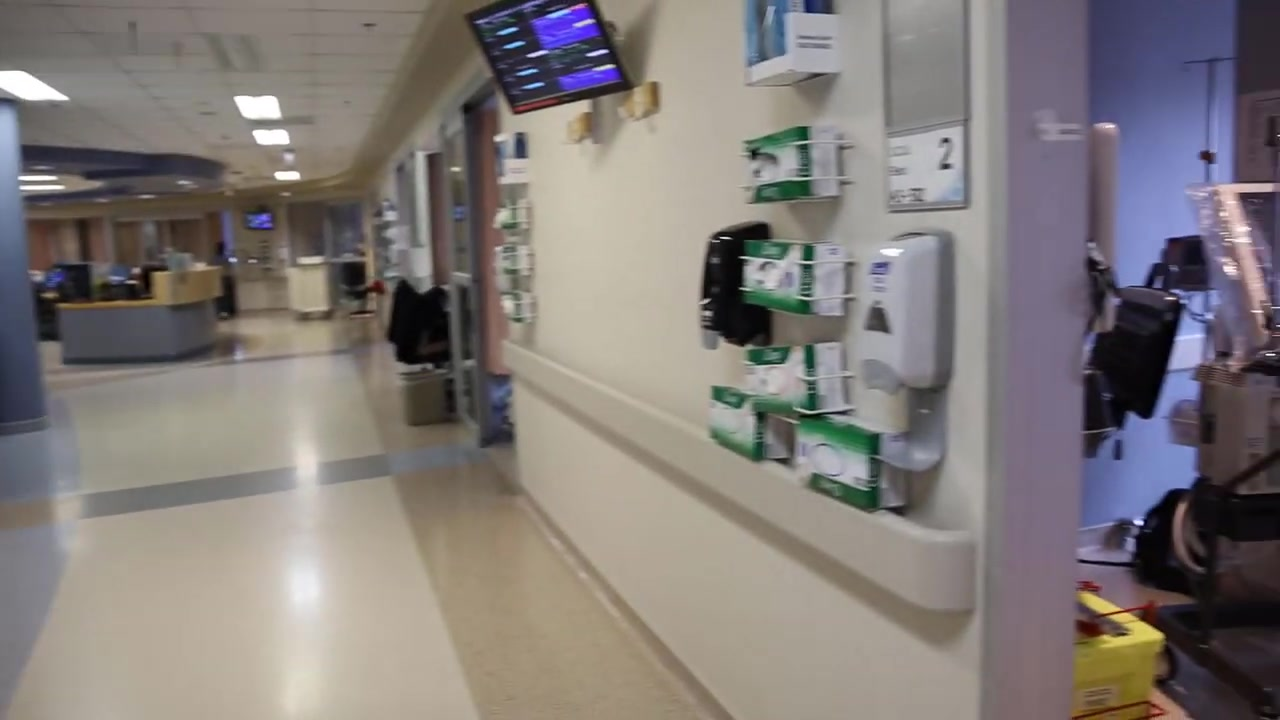chair: (334, 258, 370, 321)
computer: (462, 1, 640, 116), (240, 210, 274, 230)
counter: (56, 266, 224, 359)
dispenser: (855, 227, 957, 473), (795, 416, 907, 505), (702, 221, 771, 346), (740, 241, 843, 317), (745, 125, 838, 209), (743, 336, 846, 411), (709, 383, 787, 463), (492, 203, 530, 232), (494, 247, 532, 276), (498, 292, 536, 321)
hallway_assist_bar: (501, 339, 976, 612)
iv_pole: (1176, 49, 1249, 183)
waste_bin: (397, 368, 456, 425)
